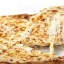pizza: (1, 5, 62, 64)
